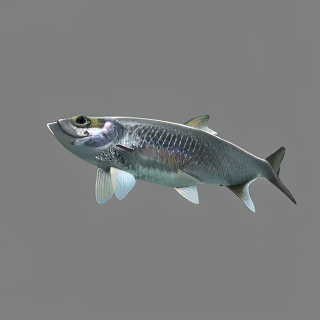Pecific herring: (44, 107, 299, 215)
